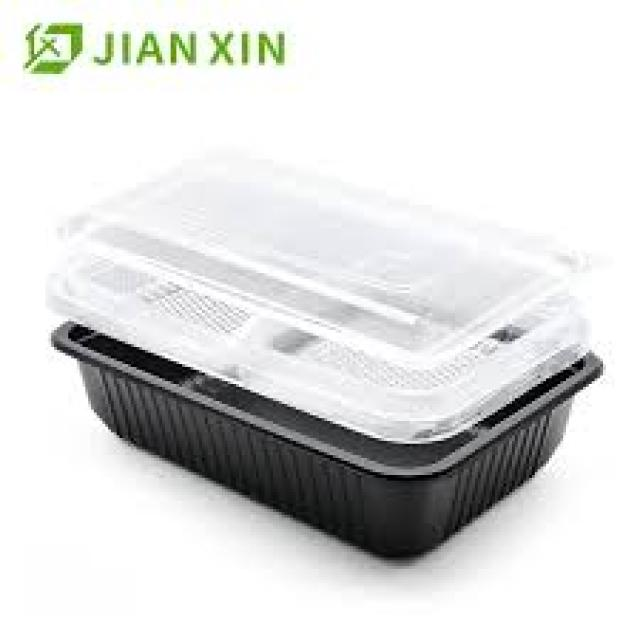disposable: (39, 265, 594, 565)
